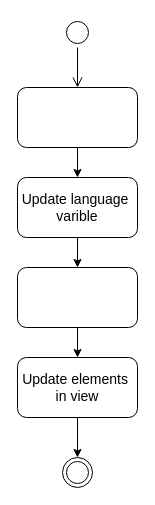
The diagram is 155 pixels wide and 505 high, and some of its shapes have lost their labels. The shapes that lost their labels are listed below. From the top down, each one's box as (x1, y1, x2, y2) in pixels, then its label:
(16, 86, 138, 148): Language Button Pressed
(16, 266, 138, 328): Get language from JSON
